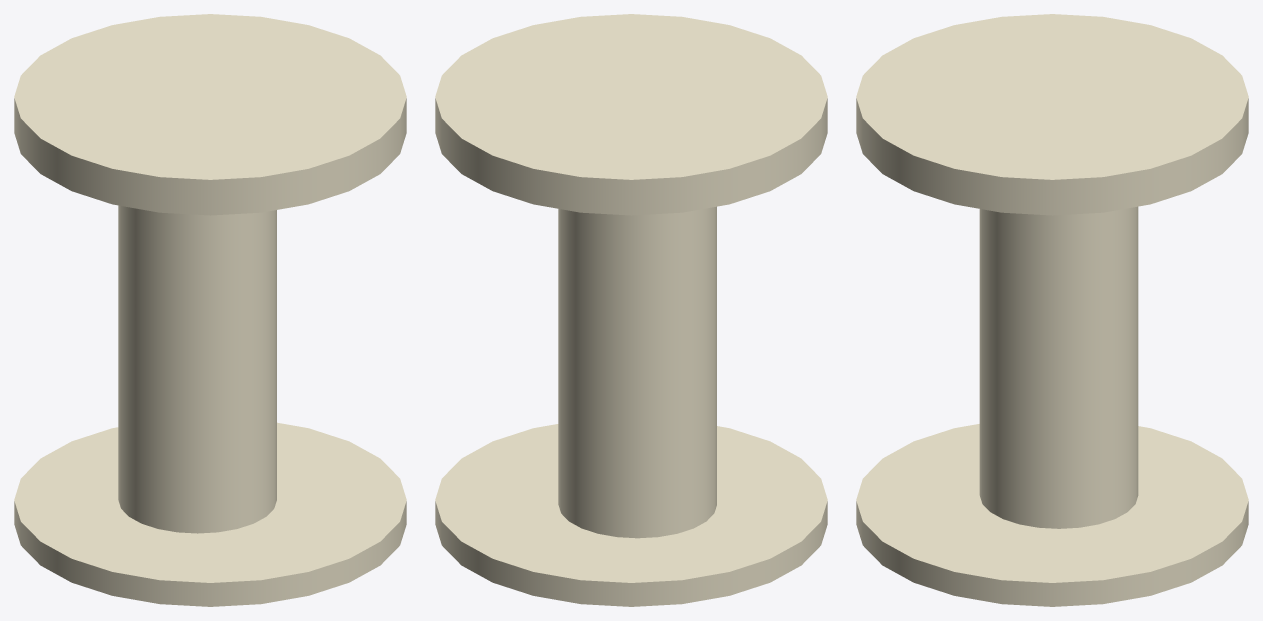
File: original-10.obj
3 renders of one model, left to right at view 1: azimuth 30°, elevation 25°; view 2: azimuth 150°, elevation 25°; view 3: azimuth 270°, elevation 25°, orthographic.
Parts seen in each view (by area): view 1: Plinth_foot1/Plinth_foot/mesh19/mesh19-geometry#mesh19-geometry; view 2: Plinth_foot1/Plinth_foot/mesh19/mesh19-geometry#mesh19-geometry; view 3: Plinth_foot1/Plinth_foot/mesh19/mesh19-geometry#mesh19-geometry.
Boxes of the visible parts, bbox=[...] form: Plinth_foot1/Plinth_foot/mesh19/mesh19-geometry#mesh19-geometry: bbox=[14, 14, 406, 606]; Plinth_foot1/Plinth_foot/mesh19/mesh19-geometry#mesh19-geometry: bbox=[435, 14, 827, 606]; Plinth_foot1/Plinth_foot/mesh19/mesh19-geometry#mesh19-geometry: bbox=[856, 14, 1248, 606].
Bounding box in the file's own units: 0.0762 × 0.0914 × 0.0762.
